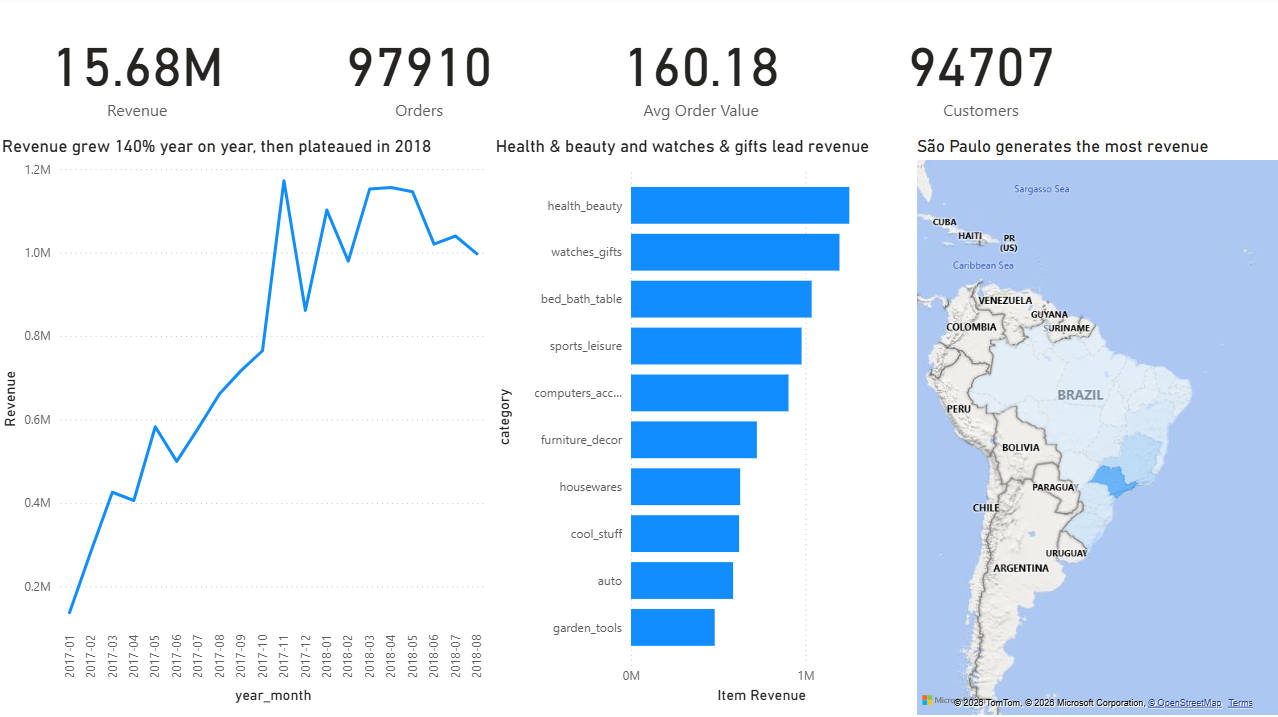

The dashboard page shown, as its layout file describes it:
{"tool":"powerbi","page":{"name":"Executive overview","canvas":[1280,720],"ordinal":0},"visuals":[{"type":"card","fields":{"Values":["_Measures.Revenue"]},"box":[0,0,279.6,149.9],"z":0},{"type":"card","fields":{"Values":["_Measures.Avg Order Value"]},"box":[560.5,0,279.6,149.9],"z":1000},{"type":"card","fields":{"Values":["_Measures.Customers"]},"box":[840,0,279.6,149.9],"z":2000},{"type":"card","fields":{"Values":["_Measures.Orders"]},"box":[279.6,0,280.9,149.9],"z":3000},{"type":"lineChart","title":"Revenue grew 140% year on year, then plateaued in 2018","fields":{"Category":["dim_date.year_month"],"Y":["_Measures.Revenue"]},"box":[0,139.3,491.4,569.7],"z":4000},{"type":"clusteredBarChart","title":"Health & beauty and watches & gifts lead revenue","fields":{"Category":["dim_products.category"],"Y":["_Measures.Item Revenue"]},"box":[491.4,139.3,419.2,569.7],"z":5000},{"type":"filledMap","title":"São Paulo generates the most revenue","fields":{"Category":["dim_customers.state_name"]},"box":[910.6,139.3,369.5,580.9],"z":6000}]}

Visuals, with their boxes in screenshot pixels (x1, y1, x2, y2), scaled from the page's 1280x720 canvas onto the 1278x717 screenshot:
card - _Measures.Revenue: select_region(0, 0, 279, 149)
card - _Measures.Avg Order Value: select_region(560, 0, 839, 149)
card - _Measures.Customers: select_region(839, 0, 1118, 149)
card - _Measures.Orders: select_region(279, 0, 560, 149)
"Revenue grew 140% year on year, then plateaued in 2018" lineChart: select_region(0, 139, 491, 706)
"Health & beauty and watches & gifts lead revenue" clusteredBarChart: select_region(491, 139, 909, 706)
"São Paulo generates the most revenue" filledMap: select_region(909, 139, 1277, 716)
